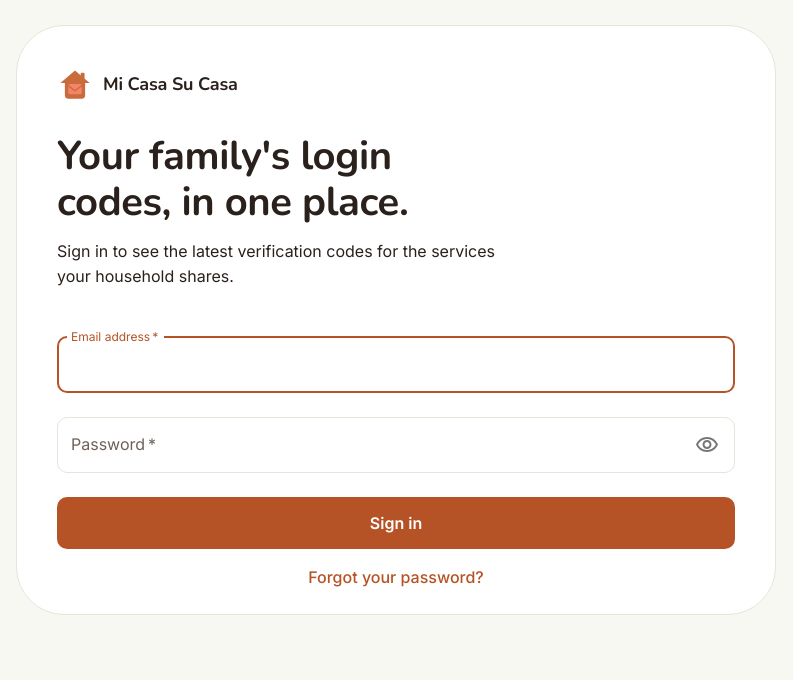
Scenario: LoginPage › shows the server's error for a wrong password
Type "kari@example.com" into the field labelled "Email address *" at coordinates (396, 365), box [57,337,735,393]
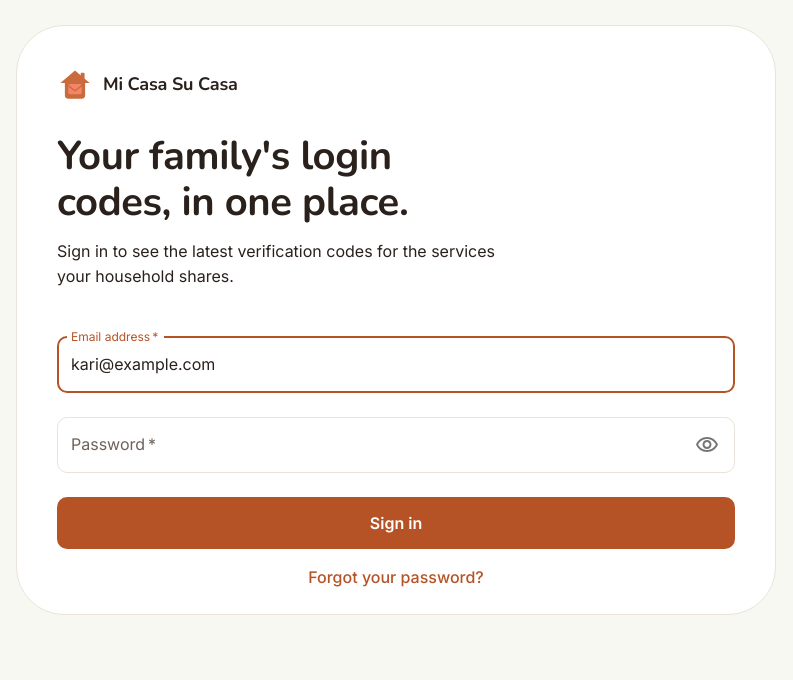
Type "nope" into the password field labelled "Password *" at coordinates (370, 445), box [57,417,682,473]
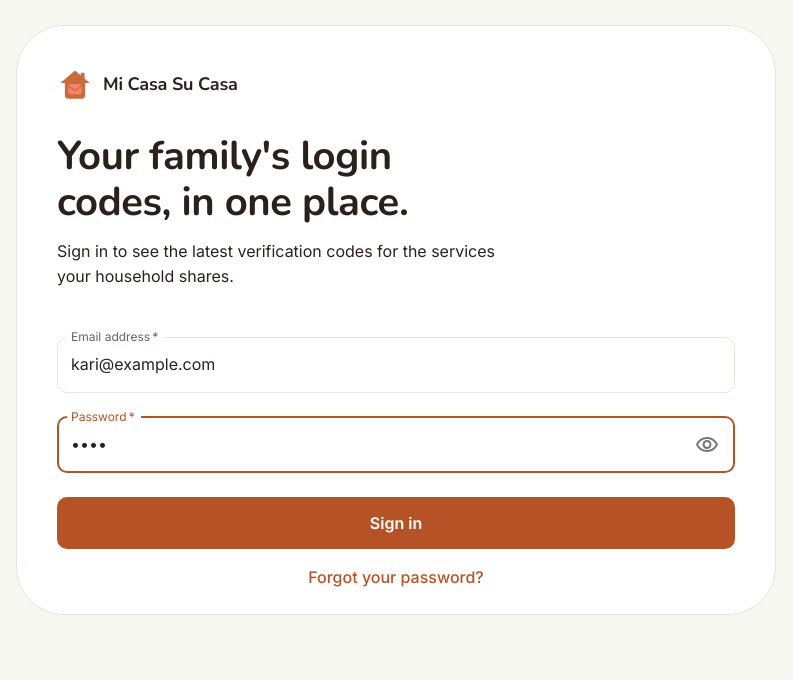
Click the button "Sign in" at coordinates (396, 523), box [57,497,735,549]
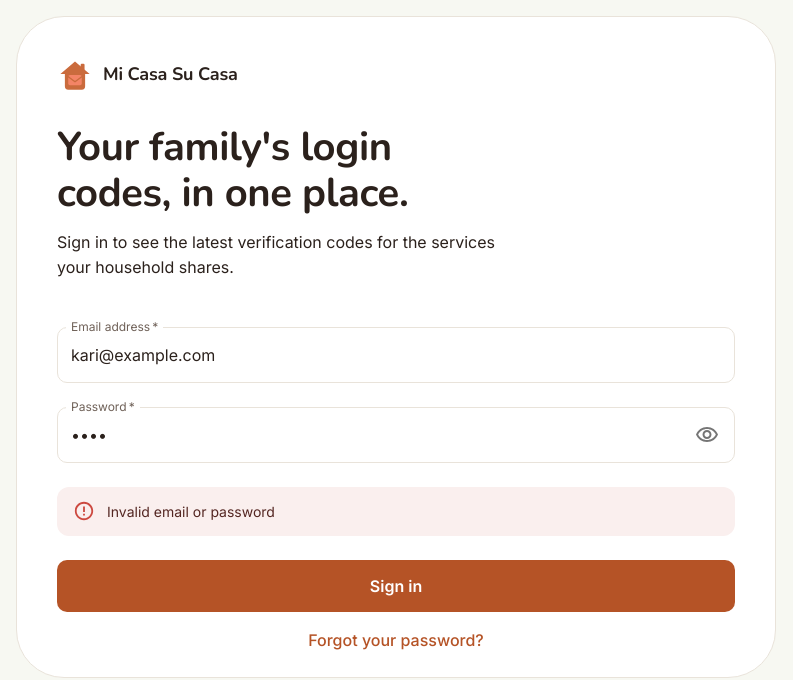
Check: the message reads "Invalid email or password", box [107,503,275,520]
